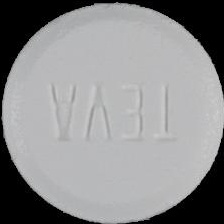63629-4018: (0, 0, 224, 224)
